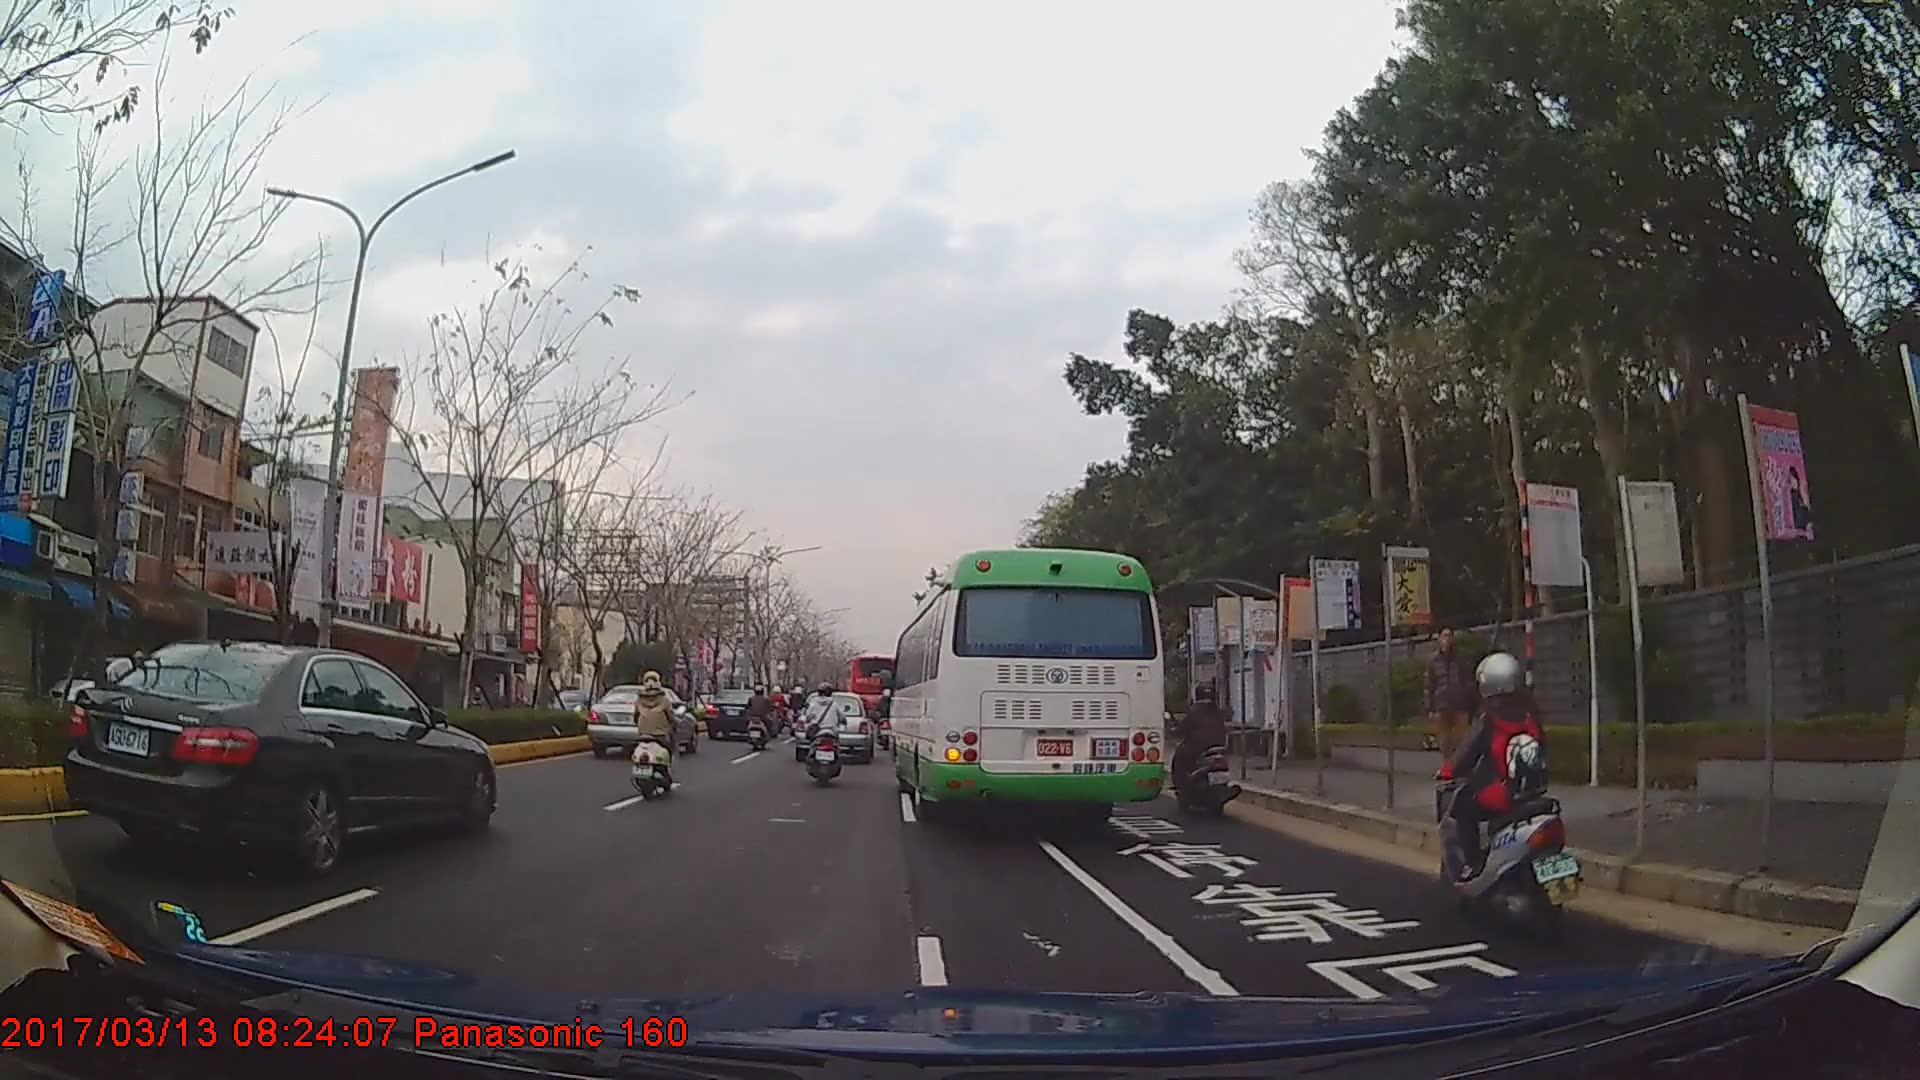pedestrian: (1425, 623, 1477, 786)
rider: (1429, 652, 1581, 936), (1170, 681, 1240, 818), (627, 673, 678, 798), (802, 682, 849, 781), (154, 654, 198, 702), (747, 683, 777, 750), (877, 689, 902, 735), (789, 685, 809, 724)
vehicle: (61, 638, 493, 880), (885, 545, 1166, 827), (585, 682, 697, 754), (796, 690, 873, 763), (846, 652, 909, 722), (705, 684, 774, 740)
